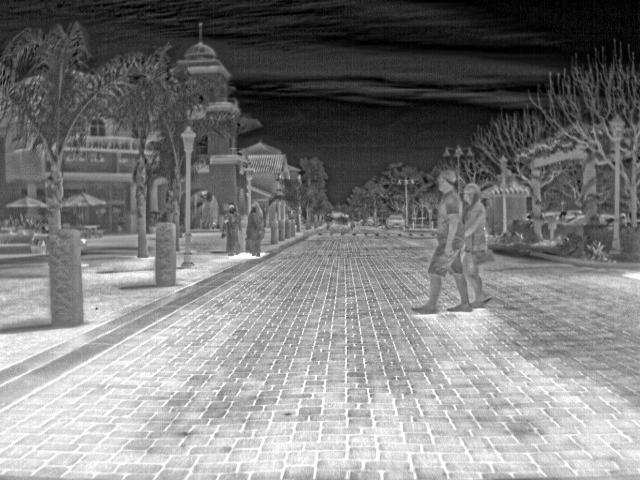car: (387, 213, 405, 229), (561, 212, 583, 223), (546, 212, 563, 224), (600, 213, 615, 224)
person: (428, 167, 463, 314), (463, 180, 488, 310), (245, 199, 263, 257), (223, 200, 241, 256)
